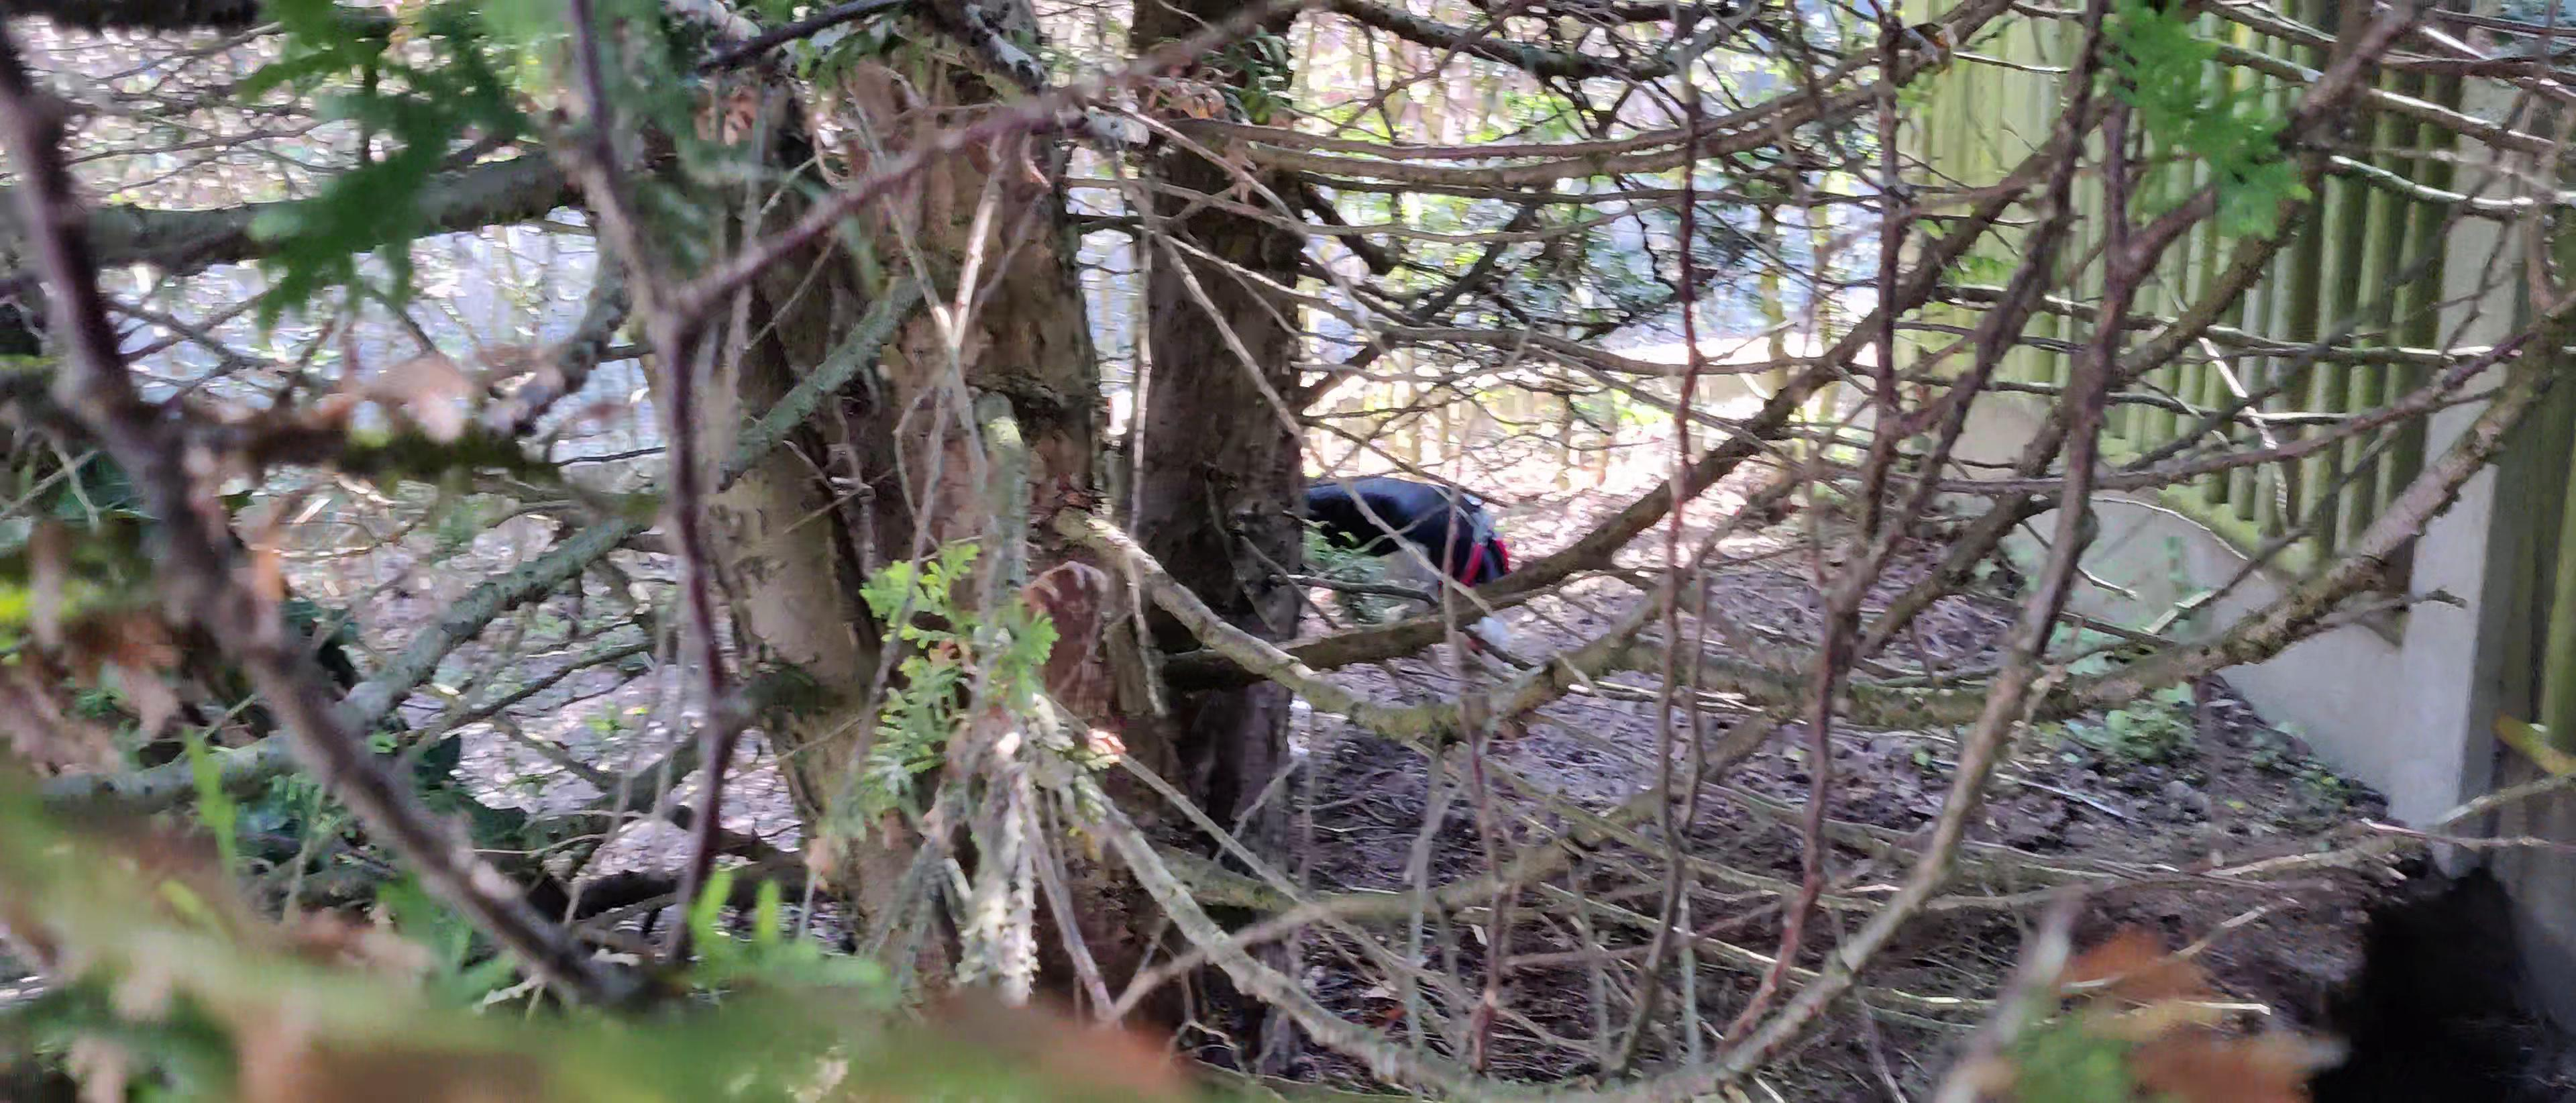Dog: (1267, 445, 1525, 682)
